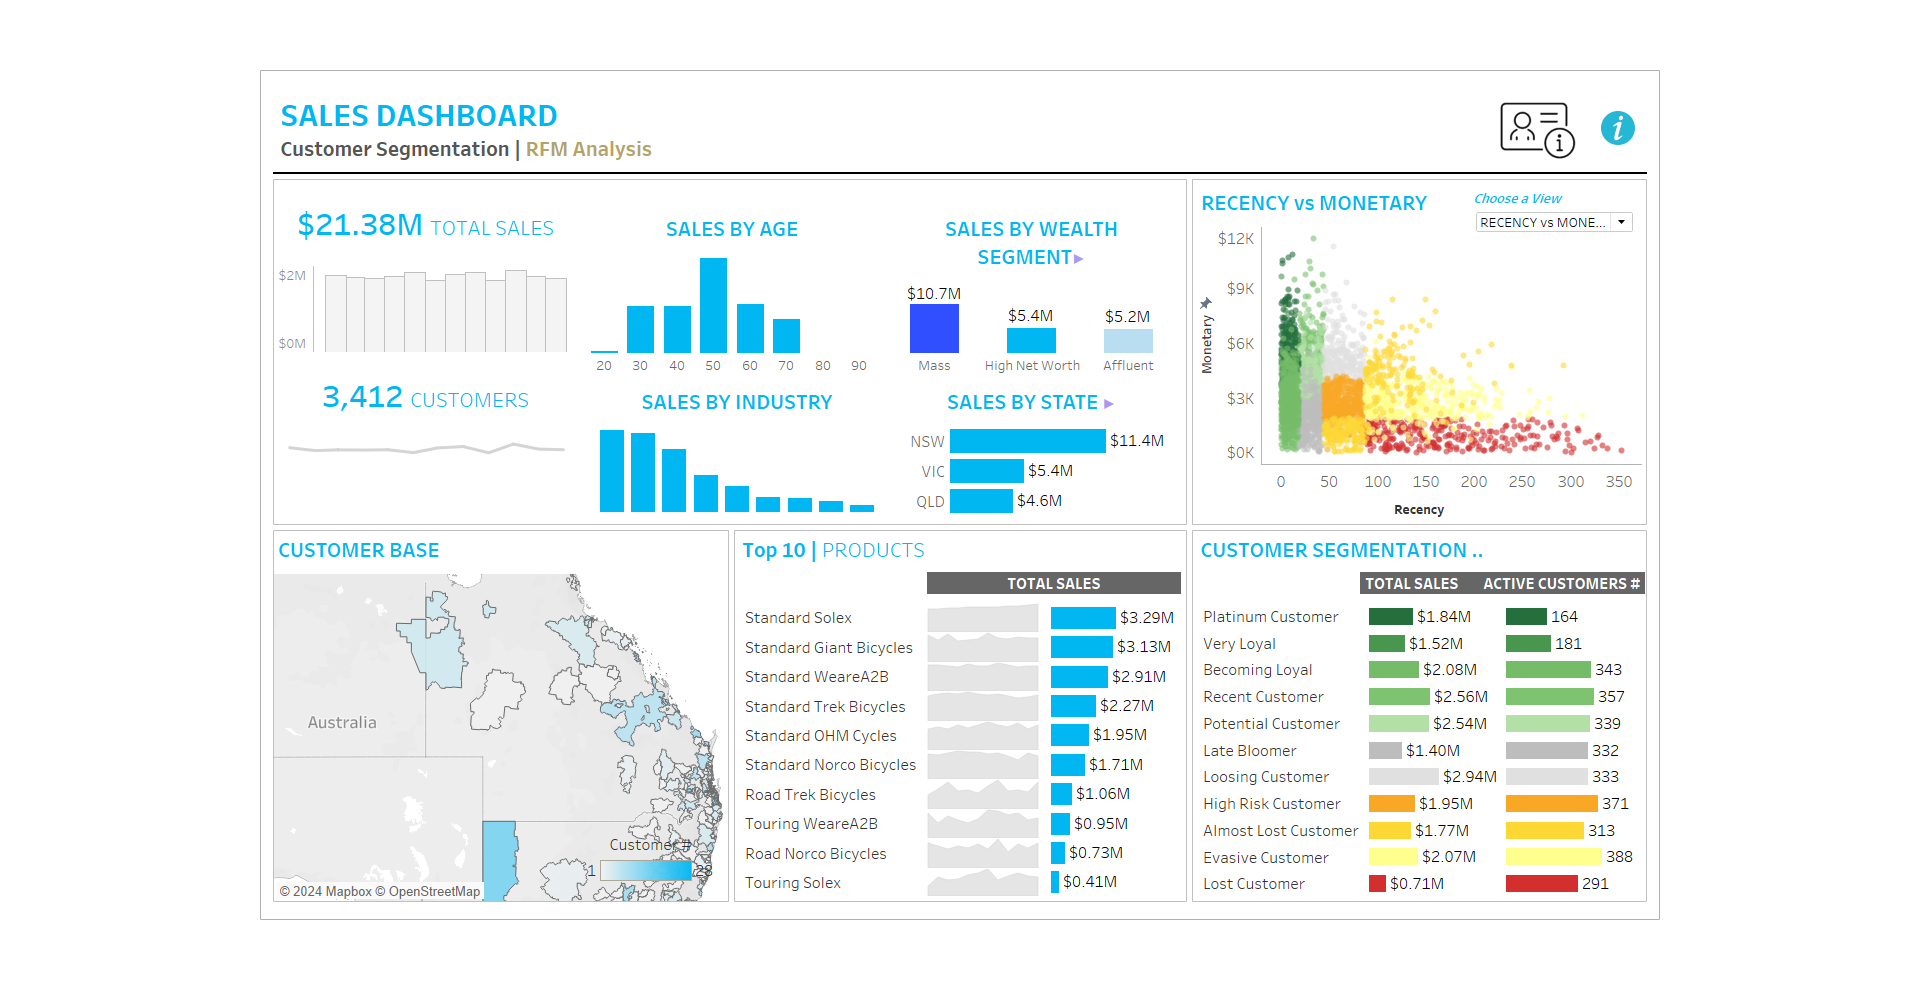

What the dashboard file says about the page in this screenshot:
{"tool":"tableau","page":{"name":"Dashboard 1","canvas":[1600,850],"ordinal":0},"visuals":[{"type":"title","box":[8,8,1584,111]},{"type":"dashboard-object","box":[1397,20,172,86]},{"type":"worksheet","title":"RMF analysis","mark":"Automatic","rows":["monetary"],"cols":["Calculation_1231171570002423810"],"box":[1041.9,119,550.1,355]},{"type":"parameter","param":"[Parameters].[Parameter 1]","box":[1424,125,160,48]},{"type":"image","param":"C:/Users/Rushikesh/Downloads/cycling.png","box":[15,126,79,69]},{"type":"worksheet","title":"Total Customer","mark":"Automatic","box":[94,126,240,67]},{"type":"worksheet","title":"Sheet 9","mark":"Automatic","rows":["list_price"],"cols":["job_industry_category"],"box":[366,126,298,182.5]},{"type":"worksheet","title":"Sales By Age","mark":"Bar","rows":["list_price"],"cols":["Calculation_1231171569992585216"],"box":[664,126,370.9,194.7]},{"type":"worksheet","title":"Sheet 10","mark":"Bar","rows":["list_price"],"cols":["transaction_date"],"box":[15,195,351,144]},{"type":"worksheet","title":"Sheet 8","mark":"Automatic","rows":["Calculation_1231171570357395463"],"cols":["list_price"],"box":[366,308.5,298,165]},{"type":"worksheet","title":"Sales By wealth","mark":"Automatic","rows":["list_price"],"cols":["wealth_segment"],"box":[664,320.7,370.9,152.8]},{"type":"worksheet","title":"Sheet 12","mark":"Automatic","box":[15,339,351,59]},{"type":"worksheet","title":"Sheet 13","mark":"Automatic","rows":["customer_id"],"cols":["transaction_date"],"box":[15,398,351,75.5]},{"type":"worksheet","title":"Sheet 6","mark":"Automatic","rows":["detail_cust_title"],"cols":["list_price","Calculation_1231171569998516225"],"box":[1041.9,474,550.1,368]},{"type":"worksheet","title":"Sheet 7","mark":"Automatic","box":[8,480,517,362]},{"type":"text","box":[532,487,503,32]},{"type":"text","box":[714,493,202,30]},{"type":"worksheet","title":"Top 10 p","mark":"Area","rows":["Calculation_1231171570013167619","list_price"],"cols":["transaction_date"],"box":[532,519,370,316]},{"type":"worksheet","title":"Sheet 11","mark":"Automatic","rows":["Calculation_1231171570013167619"],"cols":["list_price"],"box":[902,519,133,316]}]}

Visuals, with their boxes on the page's 1600x850 design canvas (x1, y1, x2, y2). These are canvas units, not pixel positions in the 1919x988 screenshot, which may show the page scaled, cropped or inside an application window:
title: {"left": 8, "top": 8, "right": 1592, "bottom": 119}
dashboard-object: {"left": 1397, "top": 20, "right": 1569, "bottom": 106}
"RMF analysis" worksheet: {"left": 1042, "top": 119, "right": 1592, "bottom": 474}
parameter: {"left": 1424, "top": 125, "right": 1584, "bottom": 173}
image: {"left": 15, "top": 126, "right": 94, "bottom": 195}
"Total Customer" worksheet: {"left": 94, "top": 126, "right": 334, "bottom": 193}
"Sheet 9" worksheet: {"left": 366, "top": 126, "right": 664, "bottom": 308}
"Sales By Age" worksheet (Bar marks): {"left": 664, "top": 126, "right": 1035, "bottom": 321}
"Sheet 10" worksheet (Bar marks): {"left": 15, "top": 195, "right": 366, "bottom": 339}
"Sheet 8" worksheet: {"left": 366, "top": 308, "right": 664, "bottom": 474}
"Sales By wealth" worksheet: {"left": 664, "top": 321, "right": 1035, "bottom": 474}
"Sheet 12" worksheet: {"left": 15, "top": 339, "right": 366, "bottom": 398}
"Sheet 13" worksheet: {"left": 15, "top": 398, "right": 366, "bottom": 474}
"Sheet 6" worksheet: {"left": 1042, "top": 474, "right": 1592, "bottom": 842}
"Sheet 7" worksheet: {"left": 8, "top": 480, "right": 525, "bottom": 842}
text: {"left": 532, "top": 487, "right": 1035, "bottom": 519}
text: {"left": 714, "top": 493, "right": 916, "bottom": 523}
"Top 10 p" worksheet (Area marks): {"left": 532, "top": 519, "right": 902, "bottom": 835}
"Sheet 11" worksheet: {"left": 902, "top": 519, "right": 1035, "bottom": 835}
